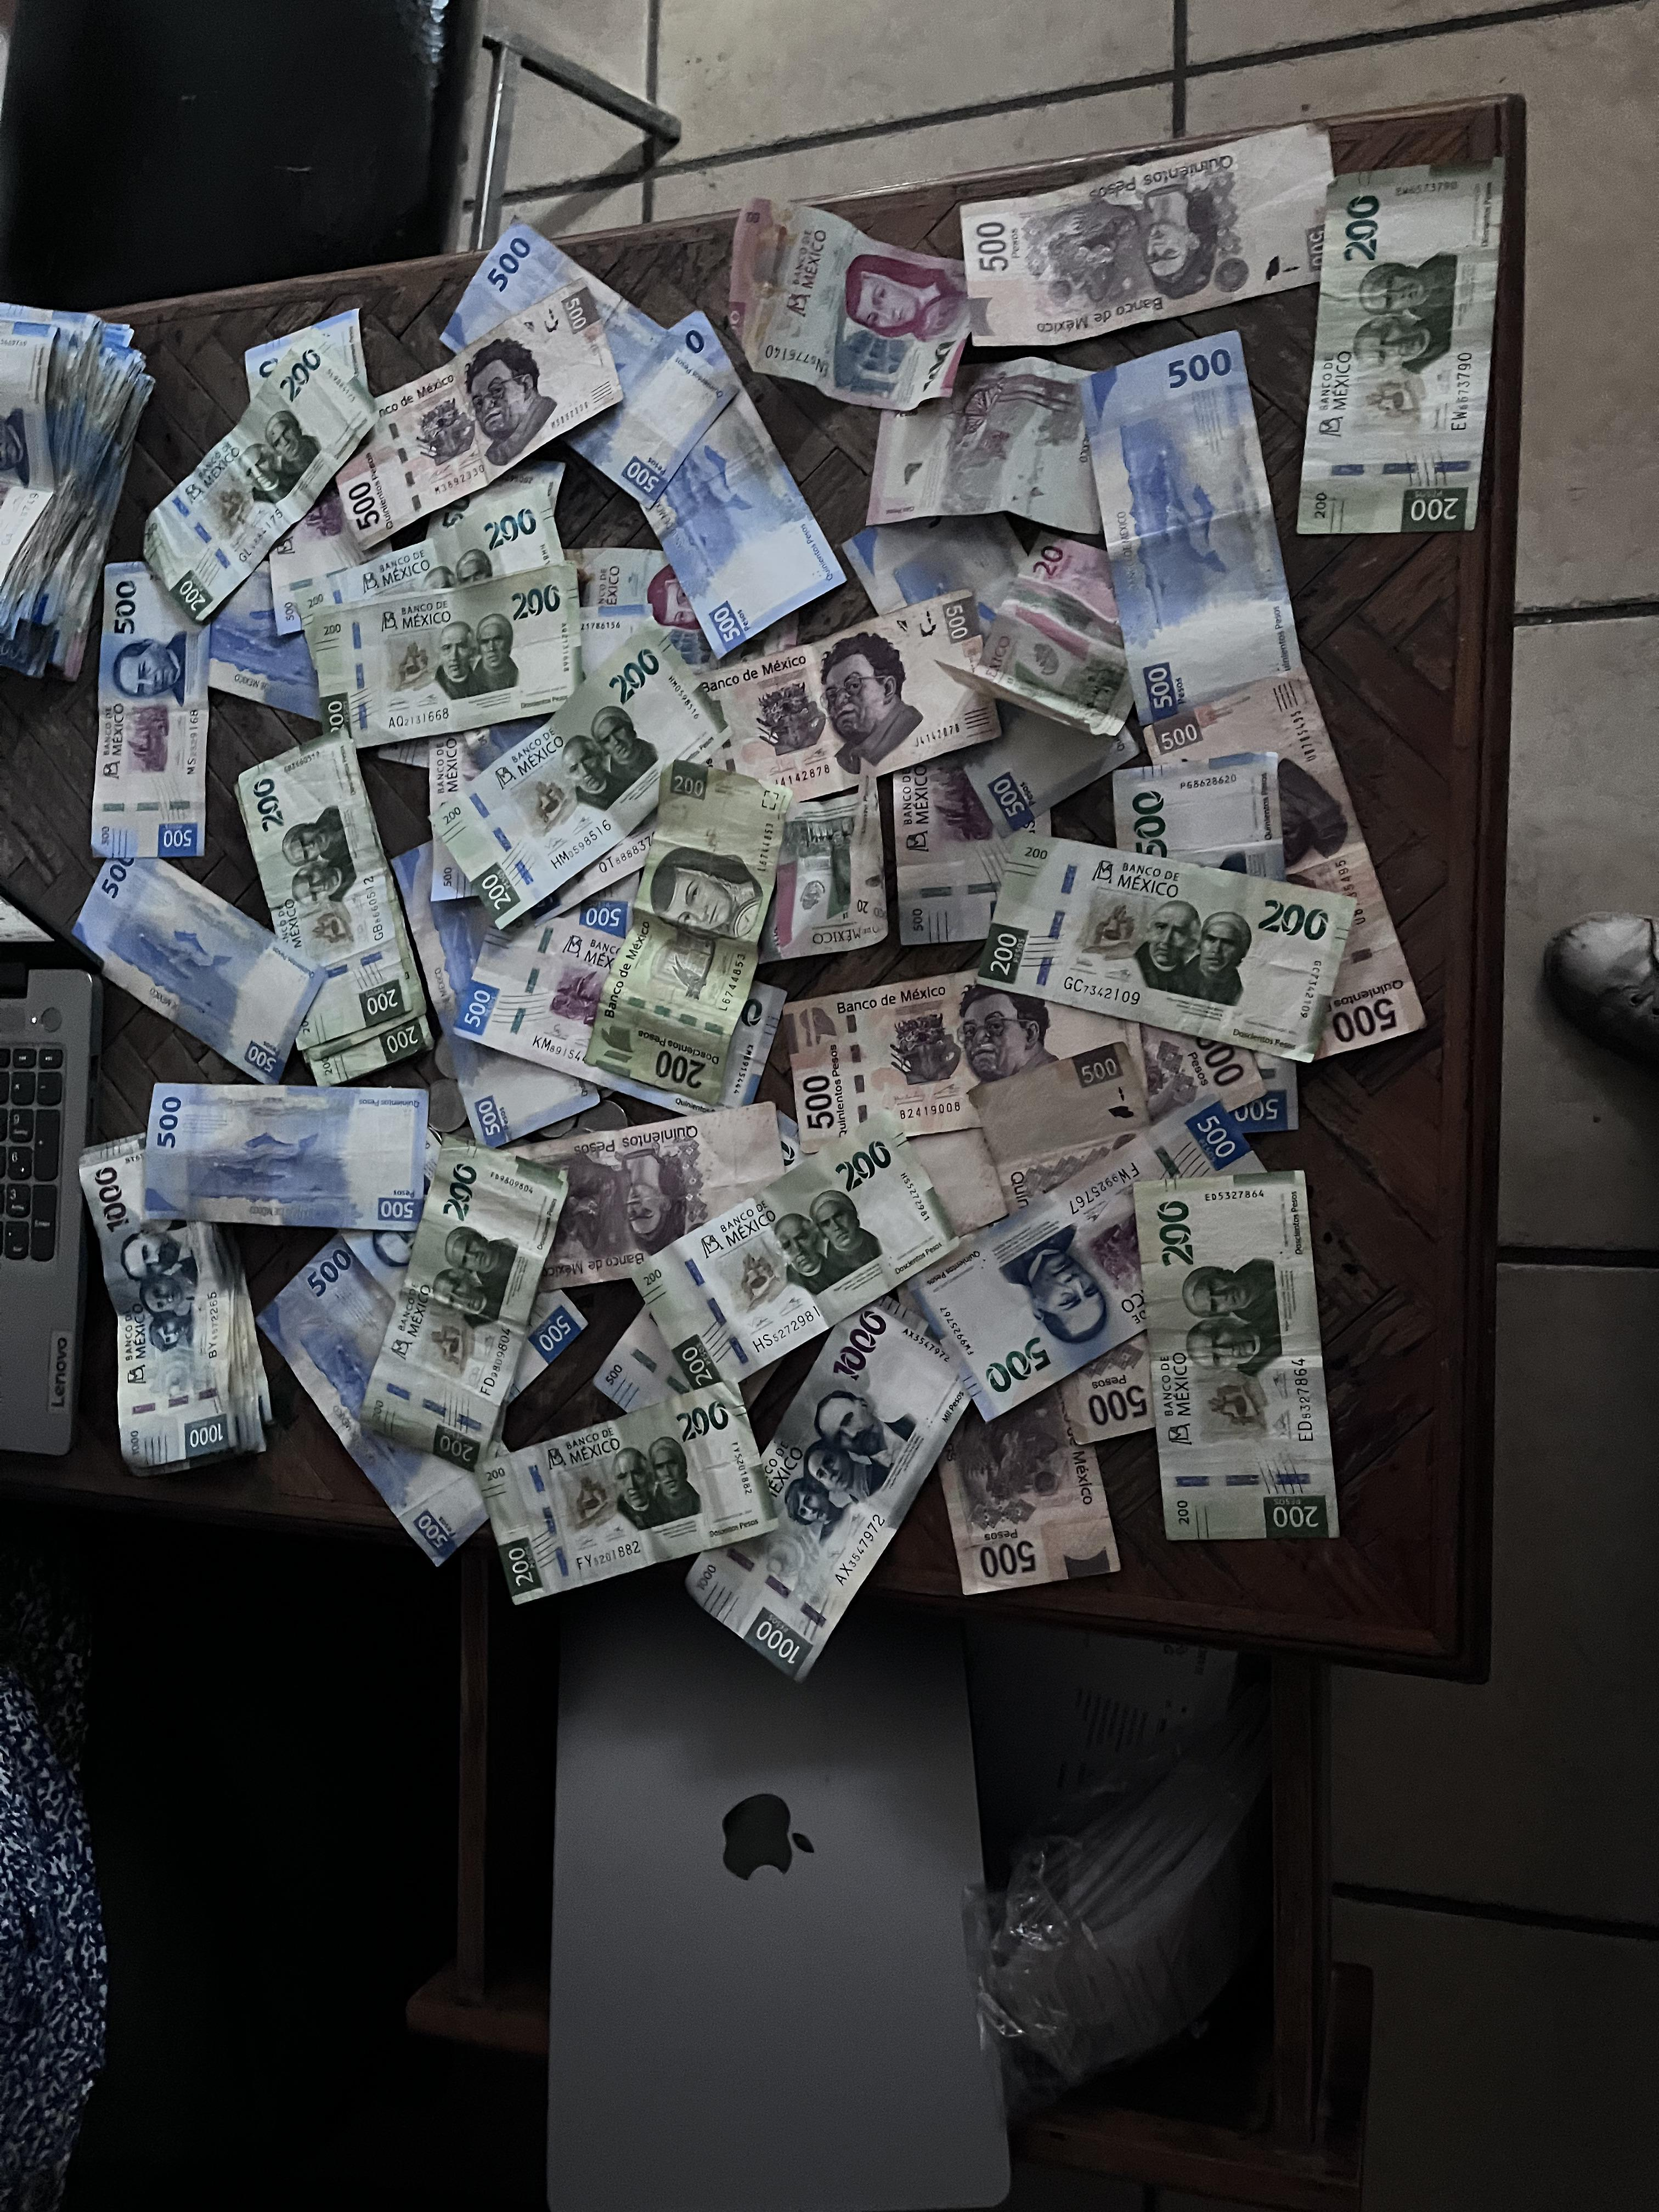100: (702, 185, 995, 416)
1000: (671, 1275, 962, 1677), (68, 1123, 253, 1486)
20: (939, 509, 1154, 737)
200: (413, 596, 760, 920), (1284, 143, 1544, 561), (971, 819, 1351, 1076), (1124, 1172, 1359, 1569), (612, 1113, 950, 1372), (228, 725, 446, 1082), (450, 1383, 793, 1606), (382, 1127, 584, 1486), (270, 488, 573, 719), (122, 327, 389, 590), (599, 758, 800, 1087)
500: (1122, 660, 1441, 1096), (958, 118, 1351, 354), (758, 944, 1176, 1141), (314, 286, 638, 523), (465, 1071, 807, 1294), (664, 577, 1006, 796), (910, 1374, 1133, 1599)
500 nuevo: (434, 216, 840, 658), (887, 1055, 1305, 1416), (220, 1200, 519, 1587), (1049, 307, 1309, 719), (51, 822, 359, 1089), (117, 1080, 479, 1251), (63, 542, 218, 860), (0, 282, 103, 664)
